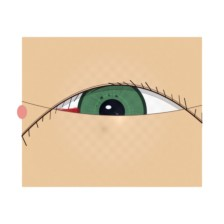hemorrhage_spot: (33, 77, 131, 156)
